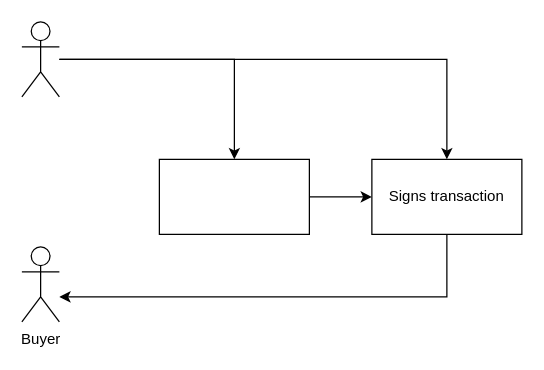
This 544x370 diagram has some shape labels left out. The box of each missing label's shape, as (x1, y1, x2, y2) in pixels:
Seller: (21, 21, 59, 97)
Transfer NFT(Sells the property): (158, 158, 309, 234)
